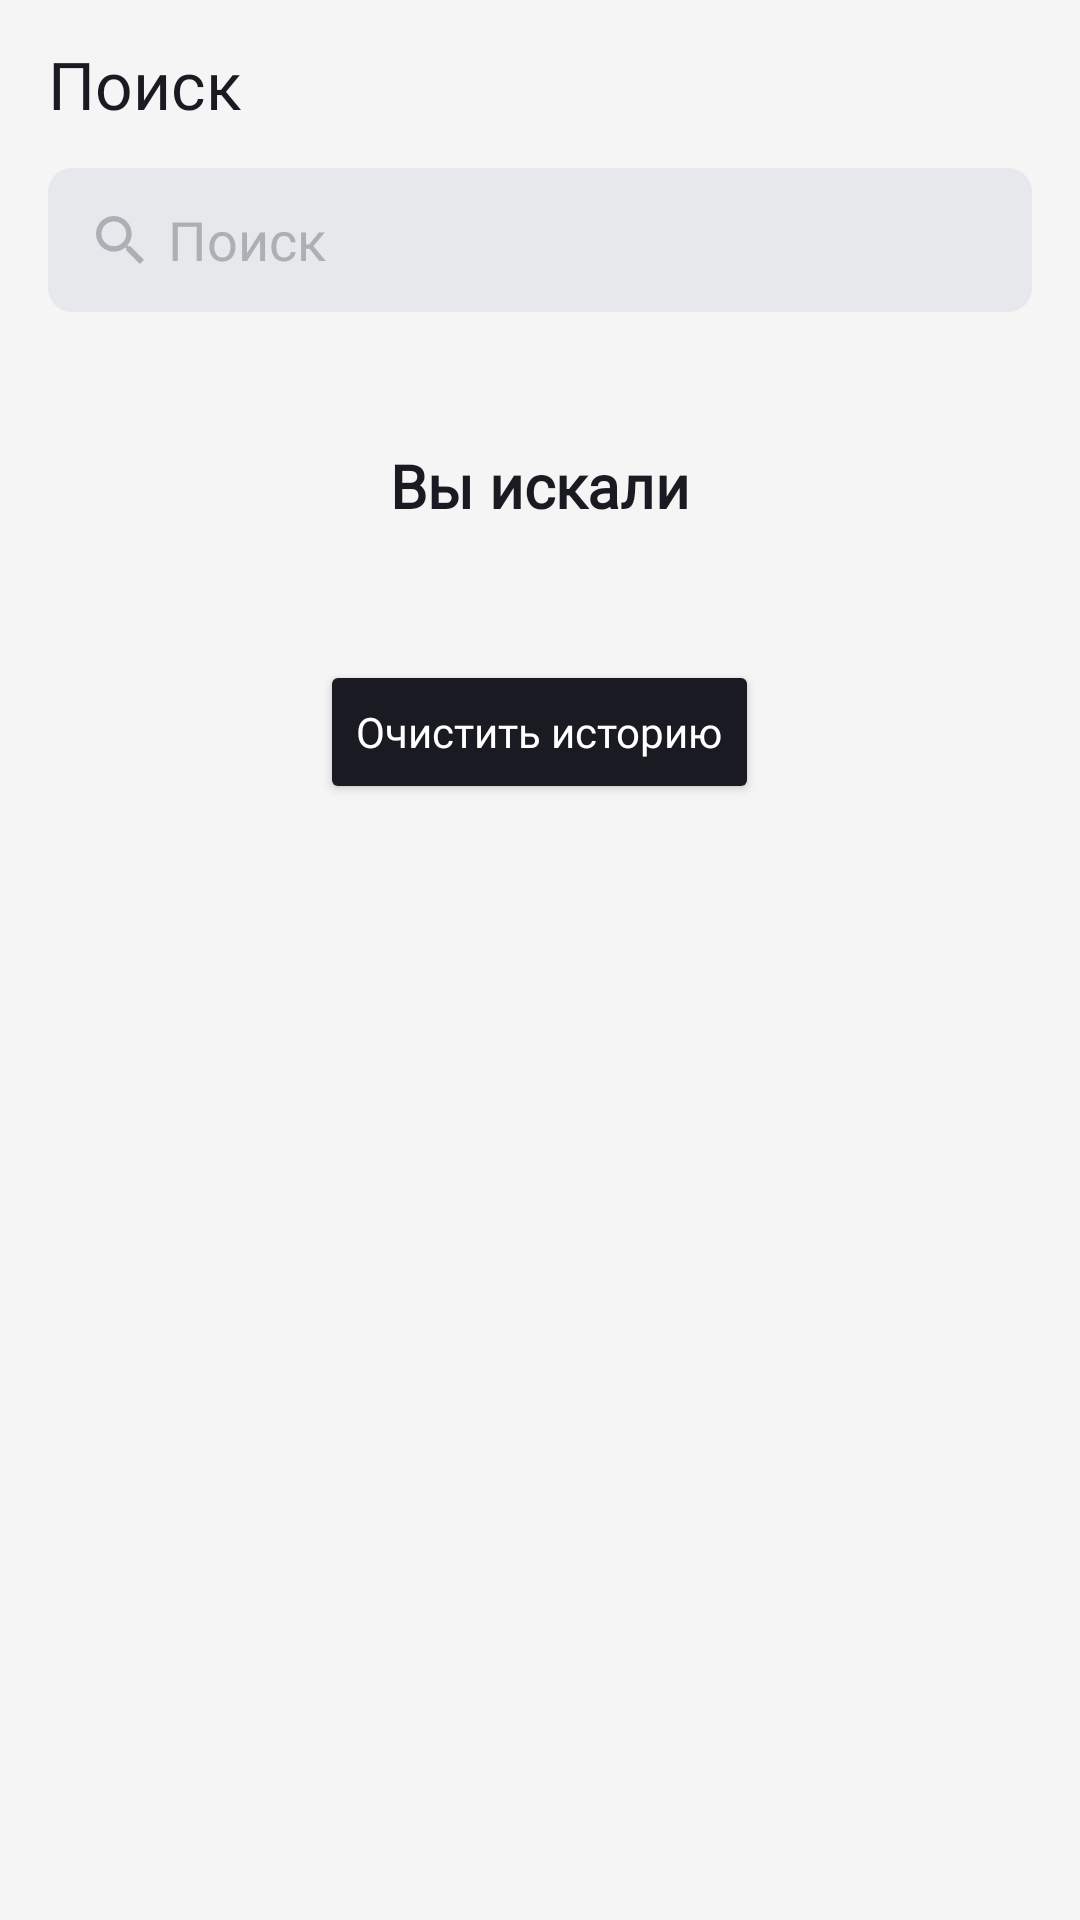

Screen size 1080px×1920px. Icon name, then its center in pixels as [x,y]:
search: [120,240]
